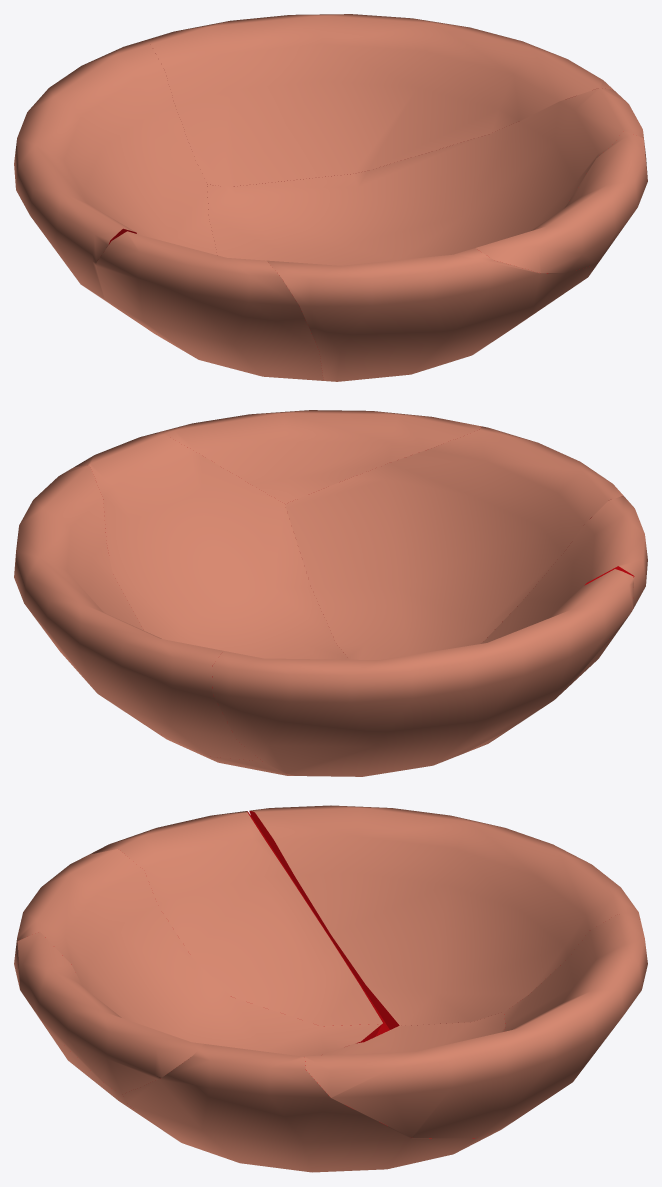
File: ClayDish_02_destroyed 1.fbx
3 views of the same model, one above another, from view 1: azimuth 30°, elevation 25°; view 2: azimuth 150°, elevation 25°; view 3: azimuth 270°, elevation 25° (orthographic).
Visible parts, largest first — view 1: ClayDish_02_cell.005, ClayDish_02_cell.004, ClayDish_02_cell.007, ClayDish_02_cell.003, ClayDish_02_cell, ClayDish_02_cell.001; view 2: ClayDish_02_cell.003, ClayDish_02_cell.007, ClayDish_02_cell.004, ClayDish_02_cell.005, ClayDish_02_cell.001, ClayDish_02_cell; view 3: ClayDish_02_cell.007, ClayDish_02_cell.005, ClayDish_02_cell, ClayDish_02_cell.003, ClayDish_02_cell.004, ClayDish_02_cell.001.
Boxes of the visible parts, <box> form: ClayDish_02_cell.005: <box>139,14,613,186</box>; ClayDish_02_cell.004: <box>207,88,647,265</box>; ClayDish_02_cell.007: <box>14,42,217,311</box>; ClayDish_02_cell.003: <box>267,248,599,381</box>; ClayDish_02_cell: <box>96,231,323,380</box>; ClayDish_02_cell.001: <box>476,131,647,273</box>; ClayDish_02_cell.003: <box>285,426,623,659</box>; ClayDish_02_cell.007: <box>212,569,633,776</box>; ClayDish_02_cell.004: <box>74,432,349,775</box>; ClayDish_02_cell.005: <box>14,465,261,761</box>; ClayDish_02_cell.001: <box>158,410,481,503</box>; ClayDish_02_cell: <box>466,496,647,752</box>; ClayDish_02_cell.007: <box>249,805,640,1029</box>; ClayDish_02_cell.005: <box>305,914,647,1138</box>; ClayDish_02_cell: <box>89,811,389,1036</box>; ClayDish_02_cell.003: <box>14,849,381,1128</box>; ClayDish_02_cell.004: <box>122,1012,513,1172</box>; ClayDish_02_cell.001: <box>17,931,203,1094</box>.
Size of the model in its own units: 25.7 by 7.92 by 25.7.
